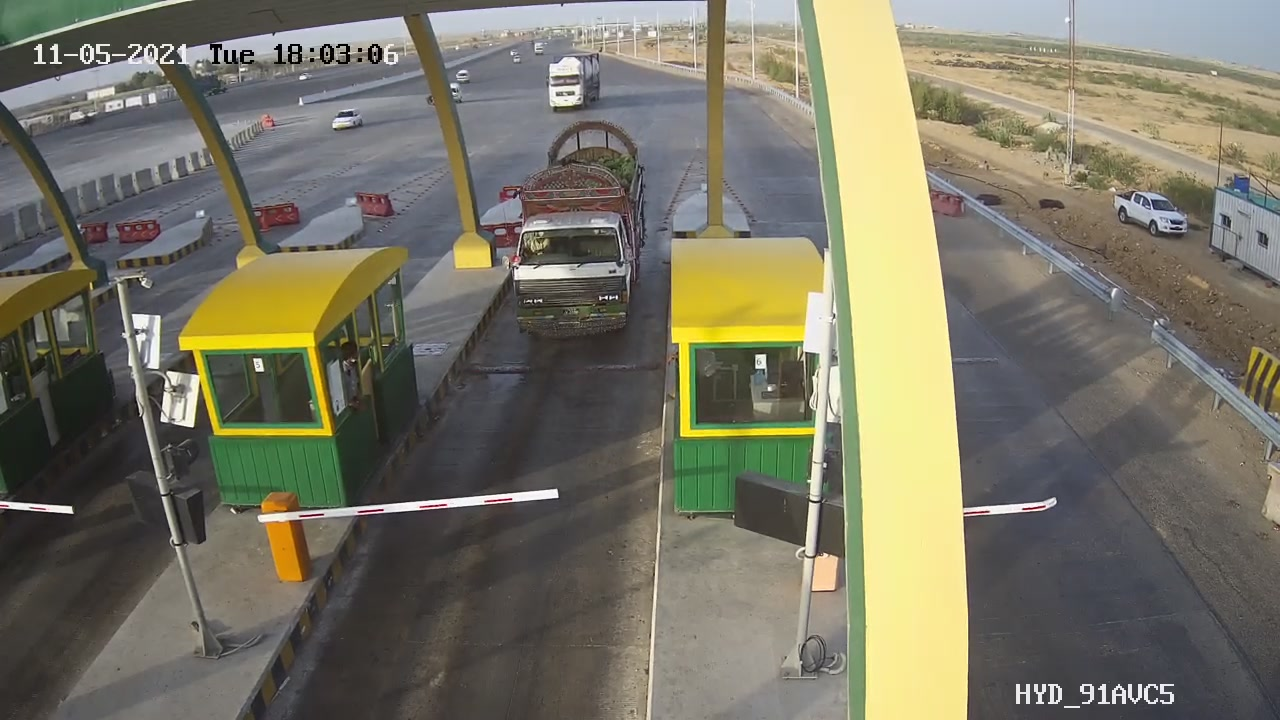F5: (485, 107, 663, 360)
